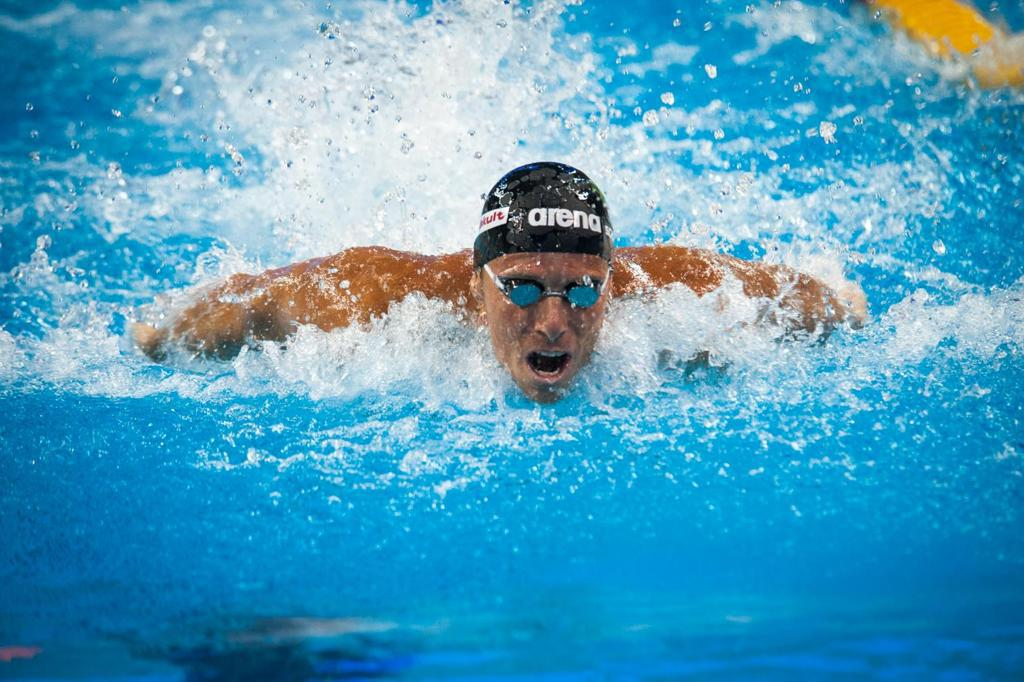face: (493, 247, 605, 401)
